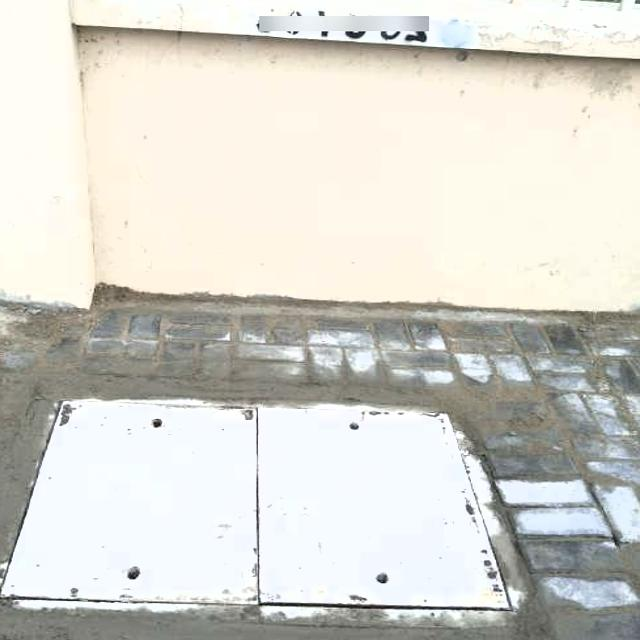good: (0, 397, 531, 618)
